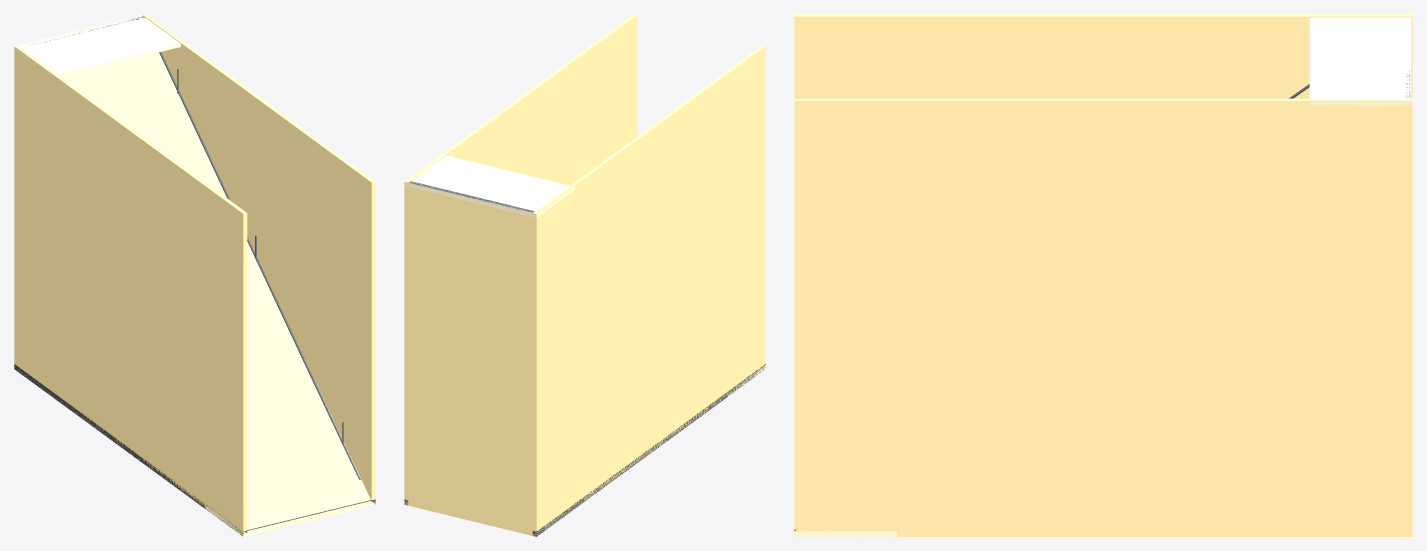
File: escalator_large.glb
3 views of the same model, side by side, from view 1: azimuth 30°, elevation 25°; view 2: azimuth 150°, elevation 25°; view 3: azimuth 270°, elevation 25° (orthographic). The views are drawn at different scales.
Visible parts, largest first — view 1: EscalatorLarge_RailL-convcol, EscalatorLarge_RailR-convcol, EscalatorLarge_Slope-convcol, EscalatorLarge_Top-convcol, EscalatorLarge_CurbL, EscalatorLarge_HandR, EscalatorLarge_Bottom-convcol; view 2: EscalatorLarge_RailL-convcol, EscalatorLarge_Slope-convcol, EscalatorLarge_RailR-convcol, EscalatorLarge_Top-convcol, EscalatorLarge_CurbL; view 3: EscalatorLarge_RailR-convcol, EscalatorLarge_Slope-convcol, EscalatorLarge_RailL-convcol, EscalatorLarge_Top-convcol.
Part boxes in pixels (x1,y1,x2,y2): EscalatorLarge_RailL-convcol: [14, 45, 247, 536]; EscalatorLarge_RailR-convcol: [143, 14, 375, 500]; EscalatorLarge_Slope-convcol: [18, 15, 372, 536]; EscalatorLarge_Top-convcol: [14, 16, 180, 76]; EscalatorLarge_CurbL: [14, 364, 247, 535]; EscalatorLarge_HandR: [159, 52, 360, 479]; EscalatorLarge_Bottom-convcol: [205, 501, 375, 536]; EscalatorLarge_RailL-convcol: [532, 45, 765, 536]; EscalatorLarge_Slope-convcol: [404, 182, 764, 536]; EscalatorLarge_RailR-convcol: [404, 14, 637, 503]; EscalatorLarge_Top-convcol: [404, 155, 574, 217]; EscalatorLarge_CurbL: [532, 364, 765, 536]; EscalatorLarge_RailR-convcol: [794, 98, 1412, 529]; EscalatorLarge_Slope-convcol: [794, 17, 1412, 536]; EscalatorLarge_RailL-convcol: [794, 14, 1412, 98]; EscalatorLarge_Top-convcol: [1309, 17, 1412, 106].
Size of the model in its own units: 4.05 by 9.45 by 12.15.
